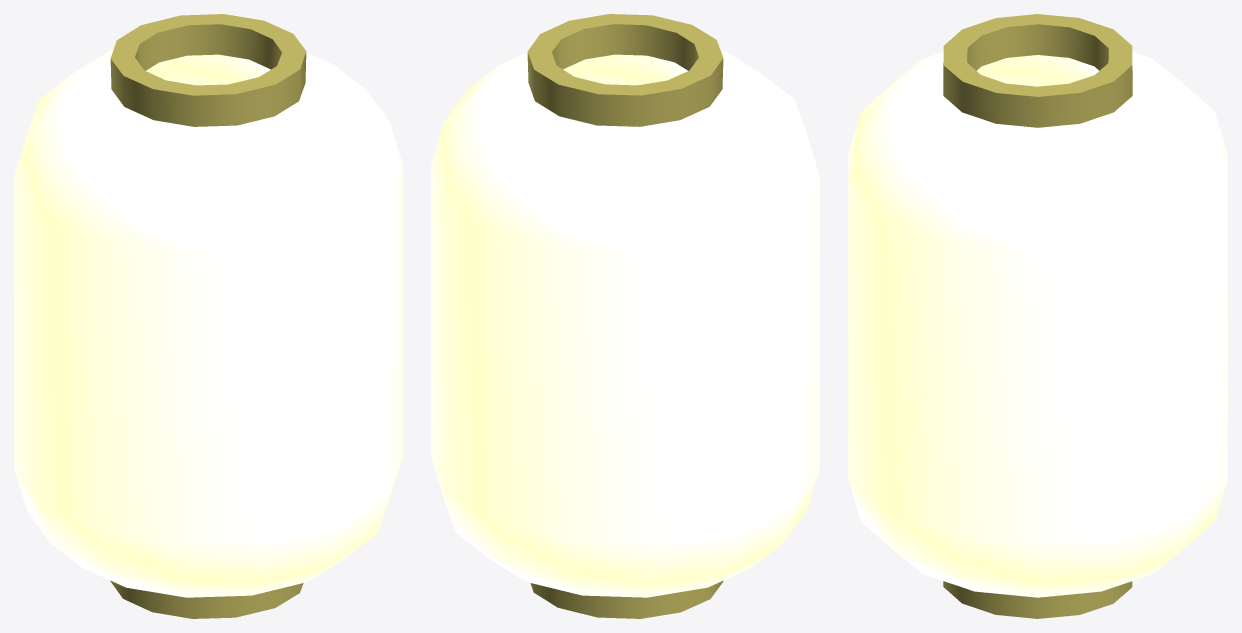
The model's file is HangingLantern_01.fbx.
The picture shows the model from 3 angles, left to right: view 1: azimuth 30°, elevation 25°; view 2: azimuth 150°, elevation 25°; view 3: azimuth 270°, elevation 25°; orthographic projection.
Parts seen in each view (by area): view 1: HangingLantern_01; view 2: HangingLantern_01; view 3: HangingLantern_01.
Part boxes in pixels (x1,y1,x2,y2): HangingLantern_01: [14, 14, 402, 618]; HangingLantern_01: [431, 14, 819, 618]; HangingLantern_01: [848, 14, 1227, 618].
Bounding box in the file's own units: 366 × 542 × 357.
